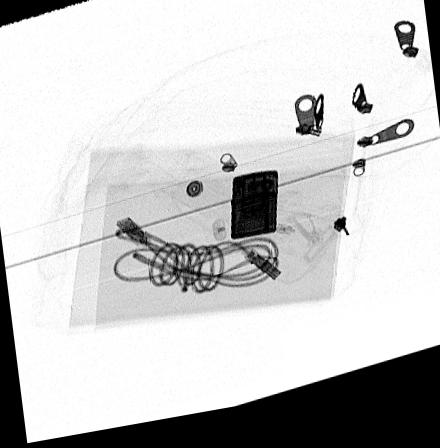Lighter: (229, 180, 277, 248)
